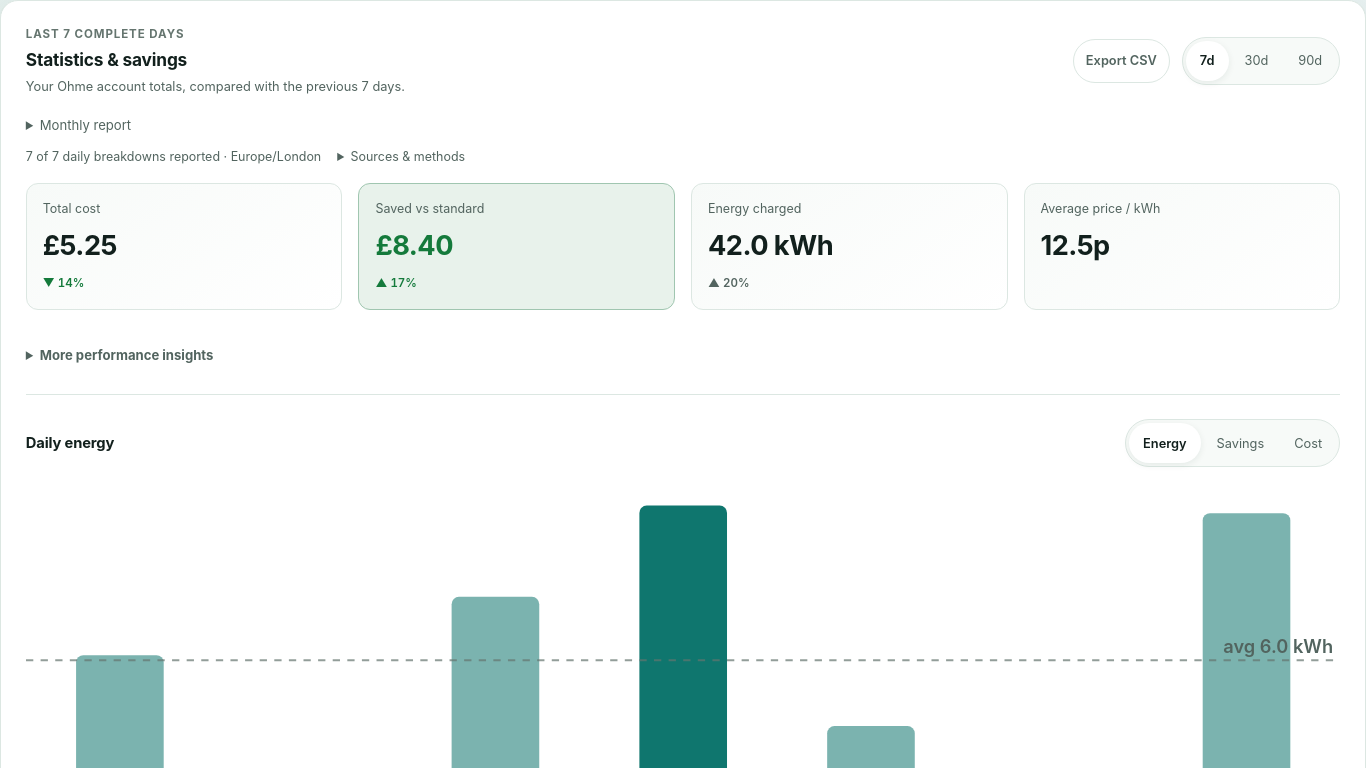
Test: StatisticsSection chart metric toggle › offers an Energy, Savings and Cost view
Click the button "Cost" at (1308, 443), box [1280,423,1336,463]
(page scrolled)
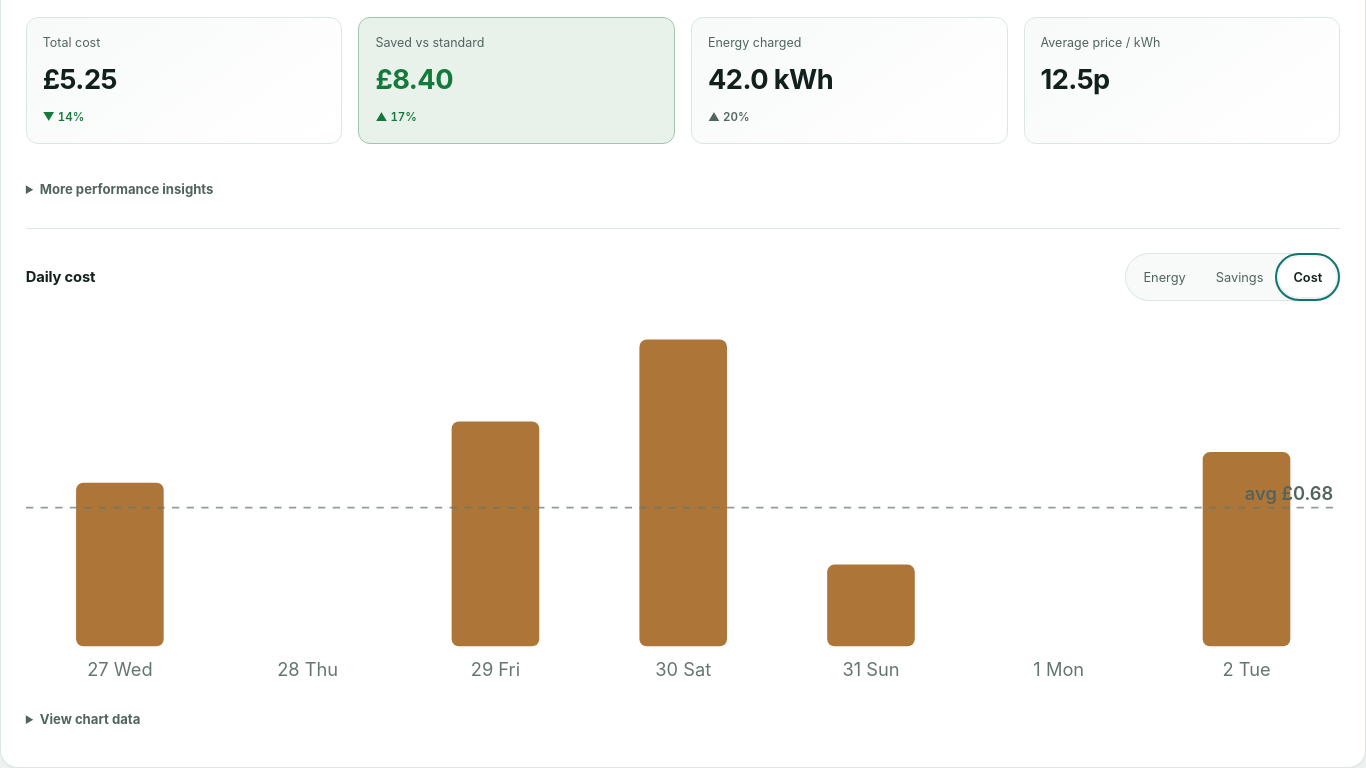
Now the heading "Daily cost" is shown, box [26,266,95,288]
Now the picture named "daily cost bar chart" is shown, box [26,325,1340,690]
